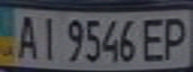4: (100, 16, 121, 63)
5: (81, 16, 103, 63)
6: (118, 16, 142, 63)
9: (60, 16, 84, 63)
A: (9, 11, 42, 61)
E: (139, 15, 169, 63)
I: (33, 12, 60, 62)
P: (157, 14, 193, 61)
